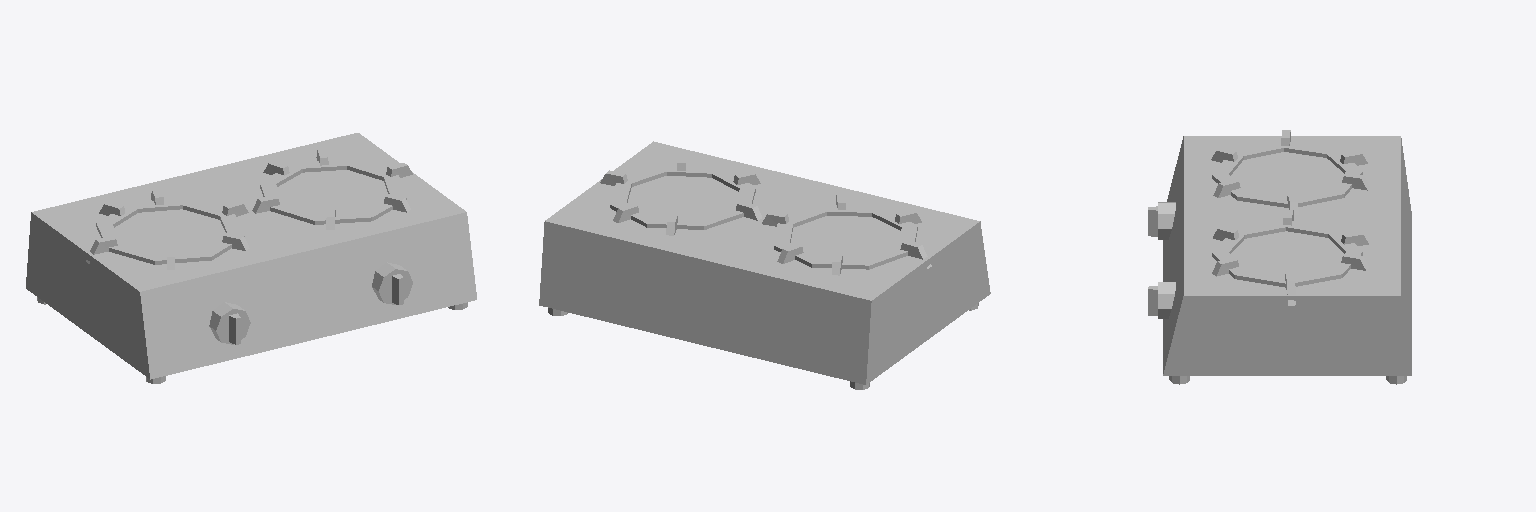
Rendered from appliance_stove_001.obj.
The picture shows the model from 3 angles: view 1: azimuth 30°, elevation 25°; view 2: azimuth 150°, elevation 25°; view 3: azimuth 270°, elevation 25°; orthographic projection.
Visible parts, largest first — view 1: appliance_stove.001_Cube.282, appliance_stove_knob.002_Cube.283, appliance_stove_knob.001_Cube.284; view 2: appliance_stove.001_Cube.282; view 3: appliance_stove.001_Cube.282, appliance_stove_knob.002_Cube.283, appliance_stove_knob.001_Cube.284.
Part boxes in pixels (x1,y1,x2,y2): appliance_stove.001_Cube.282: (26,133,476,383); appliance_stove_knob.002_Cube.283: (209,302,250,344); appliance_stove_knob.001_Cube.284: (372,262,412,304); appliance_stove.001_Cube.282: (539,141,990,389); appliance_stove.001_Cube.282: (1163,130,1411,384); appliance_stove_knob.002_Cube.283: (1148,202,1175,239); appliance_stove_knob.001_Cube.284: (1148,282,1175,318).
Size of the model in its own units: 13.28 by 3.86 by 9.19.